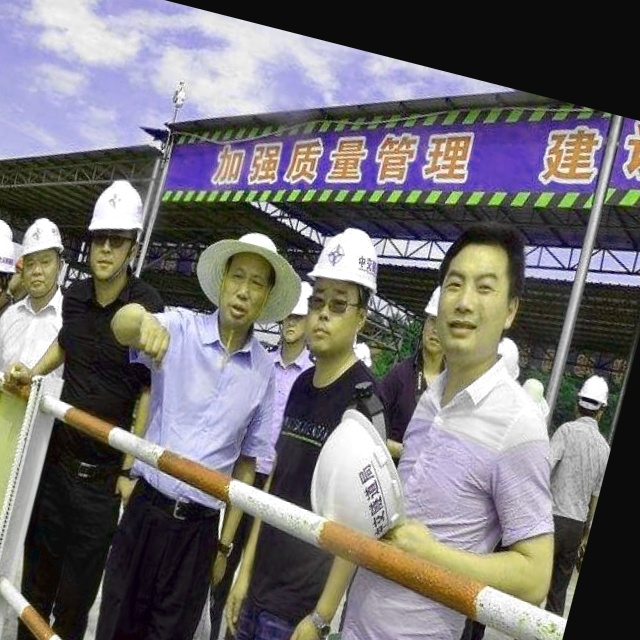Con_Casco: (293, 220, 390, 360), (77, 173, 154, 287)
Sin_Casco_Mascarrilla: (422, 214, 538, 369)
Sin_Chaleco: (126, 303, 296, 484)
